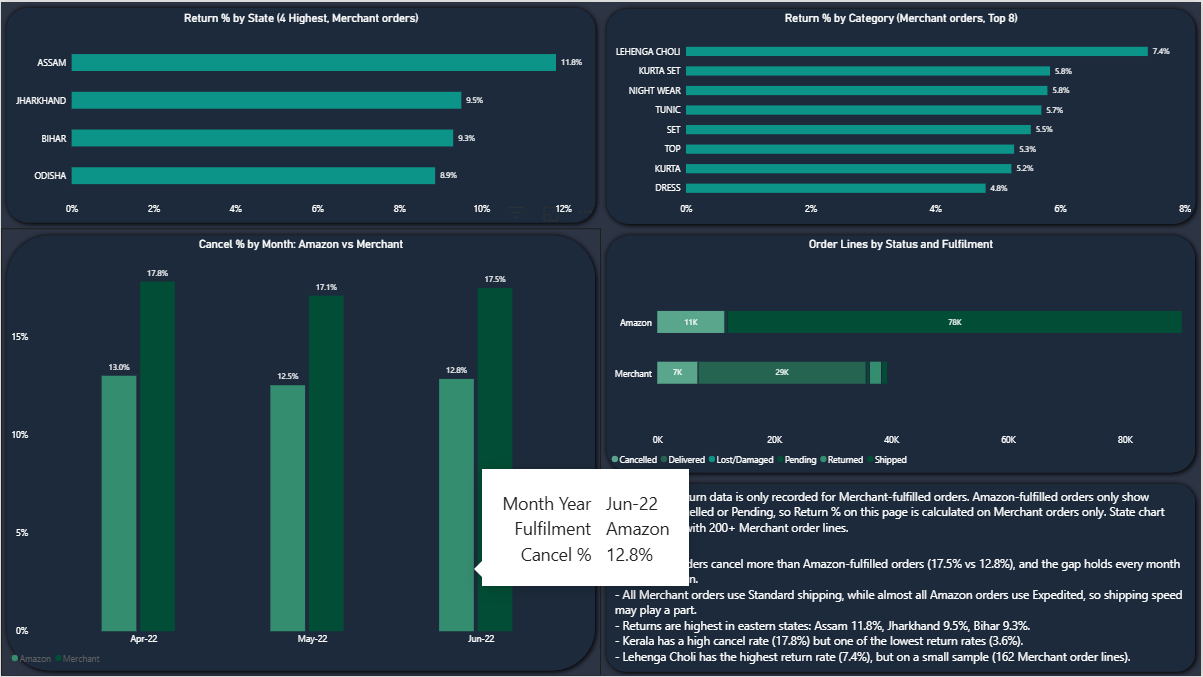

What the dashboard file says about the page in this screenshot:
{"tool":"powerbi","page":{"name":"Cancel %, status, Merchant returns","canvas":[1920,1080],"ordinal":3},"visuals":[{"type":"shape","box":[0,0,960,362],"z":0,"group":"g1"},{"type":"group","id":"g1","title":"Group 1","box":[0,0,1920,1080.7],"z":0},{"type":"shape","box":[960,1.8,960,362],"z":1000,"group":"g1"},{"type":"clusteredColumnChart","title":"Cancel % by Month: Amazon vs Merchant","fields":{"Category":["Dim_Date.Month Year"],"Series":["Amazon_Sales.Fulfilment"],"Y":["_Measures.Cancel %"]},"box":[0,361.3,960,718.4],"z":1000},{"type":"barChart","title":"Order Lines by Status and Fulfilment","fields":{"Category":["Amazon_Sales.Fulfilment"],"Series":["Amazon_Sales.Status Group"],"Y":["_Measures.Order Lines"]},"box":[960,361.3,960,399.8],"z":2000},{"type":"shape","box":[0,363.8,960,715],"z":2000,"group":"g1"},{"type":"barChart","title":"Return % by Category (Merchant orders, Top 8)","fields":{"Category":["Dim_Product.Category"],"Y":["_Measures.Return % (Merchant)"]},"box":[960,0,960,361.3],"z":3000},{"type":"shape","box":[960,363.8,960,398],"z":3000,"group":"g1"},{"type":"barChart","title":"Return % by State (4 Highest, Merchant orders)","fields":{"Category":["Amazon_Sales.ship state"],"Y":["_Measures.Return % (Merchant)"]},"box":[0,0,960,361.3],"z":4000},{"type":"shape","box":[960,761.9,960,318.8],"z":4000,"group":"g1"},{"type":"textbox","box":[983.4,778.1,918.6,81.1],"z":5000},{"type":"textbox","box":[983,859.8,937,219.1],"z":6000}]}

Visuals, with their boxes in screenshot pixels (x1, y1, x2, y2), scaled from the page's 1920x1080 canvas onto the 1203x677 screenshot:
shape: bbox(0, 0, 602, 227)
"Group 1" group: bbox(0, 0, 1202, 676)
shape: bbox(602, 1, 1202, 228)
"Cancel % by Month: Amazon vs Merchant" clusteredColumnChart: bbox(0, 226, 602, 676)
"Order Lines by Status and Fulfilment" barChart: bbox(602, 226, 1202, 477)
shape: bbox(0, 228, 602, 676)
"Return % by Category (Merchant orders, Top 8)" barChart: bbox(602, 0, 1202, 226)
shape: bbox(602, 228, 1202, 478)
"Return % by State (4 Highest, Merchant orders)" barChart: bbox(0, 0, 602, 226)
shape: bbox(602, 478, 1202, 676)
textbox: bbox(616, 488, 1192, 539)
textbox: bbox(616, 539, 1202, 676)
